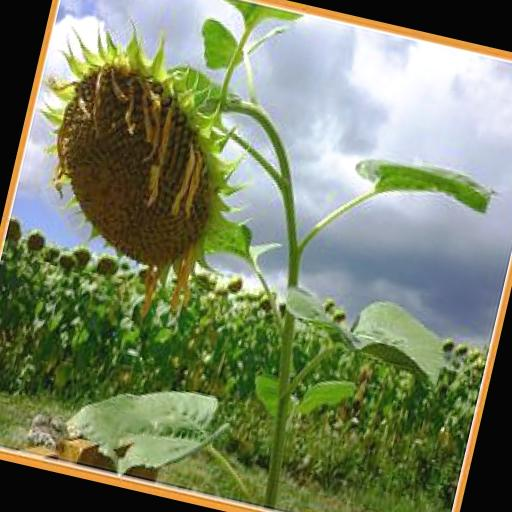sunflower: (0, 10, 278, 327)
